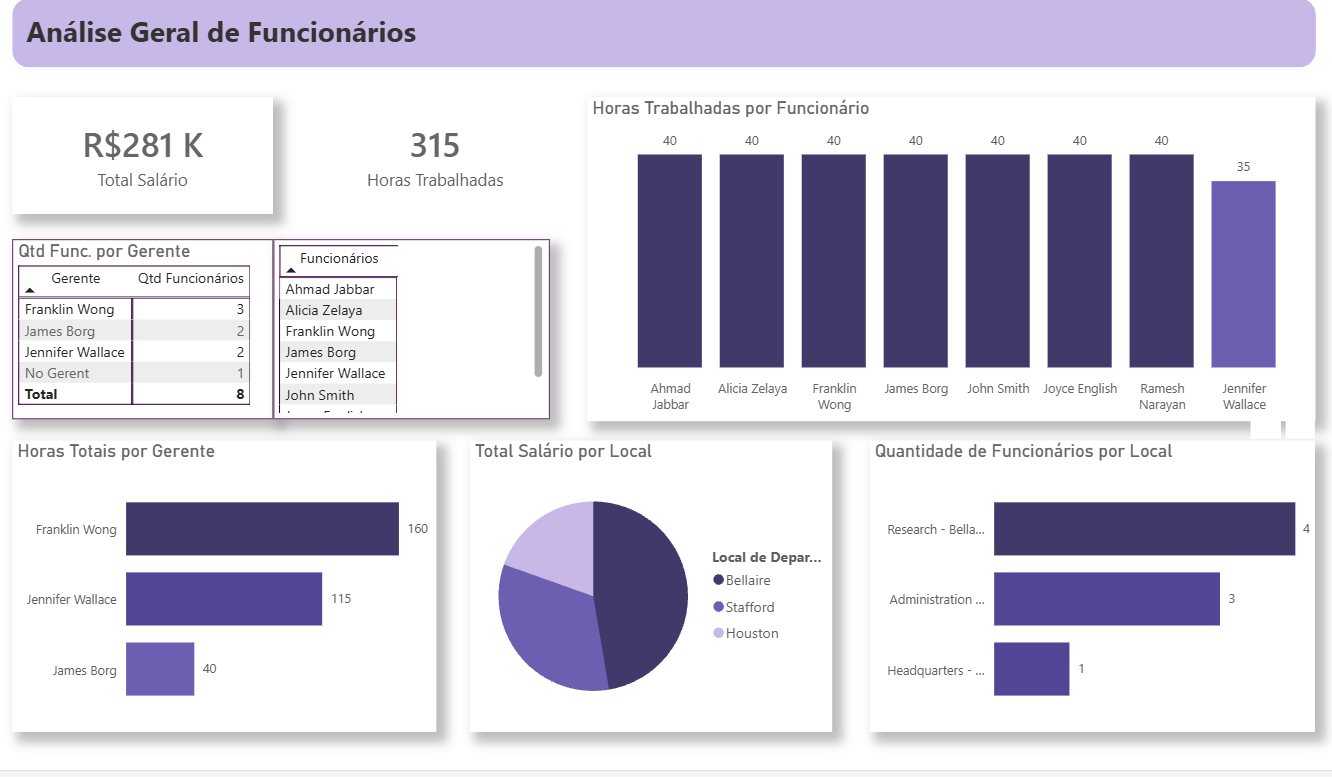

The dashboard page shown, as its layout file describes it:
{"tool":"powerbi","page":{"name":"Página 1","canvas":[1280,720],"ordinal":0},"visuals":[{"type":"shape","box":[20,0,1234.5,65.8],"z":0},{"type":"pivotTable","title":"Qtd Func. por Gerente","fields":{"Rows":["Employee_Gerents.Full Name Gerent"],"Values":["Employee_Gerents.Qtd Funcionários"]},"box":[20,228.9,247.5,170.2],"z":1000},{"type":"pivotTable","fields":{"Rows":["Employees.Full Name Func."]},"box":[267.5,228.9,261.8,170.2],"z":2000},{"type":"columnChart","title":"Horas Trabalhadas por Funcionário","fields":{"Category":["Employees.Full Name Func."],"Y":["Employee_Workhours.Total Hours"]},"box":[565,93,689.5,307.6],"z":3000},{"type":"barChart","title":"Horas Totais por Gerente","fields":{"Category":["Employees.Full Name Gerent"],"Y":["Employee_Workhours.Total Hours"]},"box":[20,419.1,402,276.1],"z":4000},{"type":"barChart","title":"Quantidade de Funcionários por Local","fields":{"Category":["Employee_Departamen.Departament Location"],"Y":["Employees.Employee-ID"]},"box":[832.5,419.1,422,276.1],"z":5000},{"type":"pieChart","title":"Total Salário por Local","fields":{"Category":["Employee_Departamen.Dep Location","Employee_Departamen.Departament Location"],"Y":["Employees.Salary"]},"box":[453.5,419.1,343.3,276.1],"z":6000},{"type":"textbox","box":[28.6,8.6,463.5,51.5],"z":7000},{"type":"cardVisual","fields":{"Data":["Employees.Salary"]},"box":[20,93,247.5,111.6],"z":8000},{"type":"cardVisual","fields":{"Data":["Employee_Workhours.Total Hours"]},"box":[297.5,93,247.5,111.6],"z":9000}]}

Visuals, with their boxes on the page's 1280x720 design canvas (x1, y1, x2, y2). These are canvas units, not pixel positions in the 1332x777 screenshot, which may show the page scaled, cropped or inside an application window:
shape: BBox(20, 0, 1254, 66)
"Qtd Func. por Gerente" pivotTable: BBox(20, 229, 268, 399)
pivotTable - Employees.Full Name Func.: BBox(268, 229, 529, 399)
"Horas Trabalhadas por Funcionário" columnChart: BBox(565, 93, 1254, 401)
"Horas Totais por Gerente" barChart: BBox(20, 419, 422, 695)
"Quantidade de Funcionários por Local" barChart: BBox(832, 419, 1254, 695)
"Total Salário por Local" pieChart: BBox(454, 419, 797, 695)
textbox: BBox(29, 9, 492, 60)
cardVisual - Employees.Salary: BBox(20, 93, 268, 205)
cardVisual - Employee_Workhours.Total Hours: BBox(298, 93, 545, 205)
